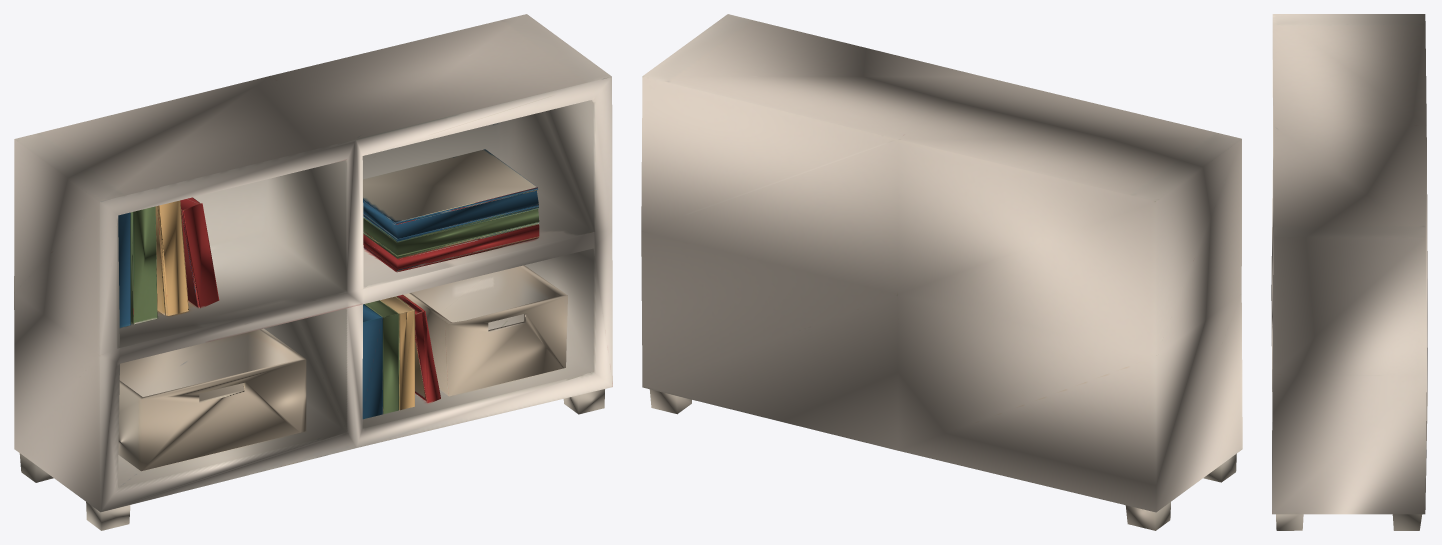
The model's file is bookshelf.fbx.
3 renders of one model, left to right at view 1: azimuth 30°, elevation 25°; view 2: azimuth 150°, elevation 25°; view 3: azimuth 270°, elevation 25°, orthographic. The views are drawn at different scales.
Visible parts, largest first — view 1: Mesh_0; view 2: Mesh_0; view 3: Mesh_0.
Boxes of the visible parts, <box> form: Mesh_0: <box>14,14,612,530</box>; Mesh_0: <box>641,14,1242,530</box>; Mesh_0: <box>1271,14,1427,530</box>.
Bounding box in the file's own units: 95.7 × 59.18 × 28.27.
Materials: 1 (1 with a texture image).
